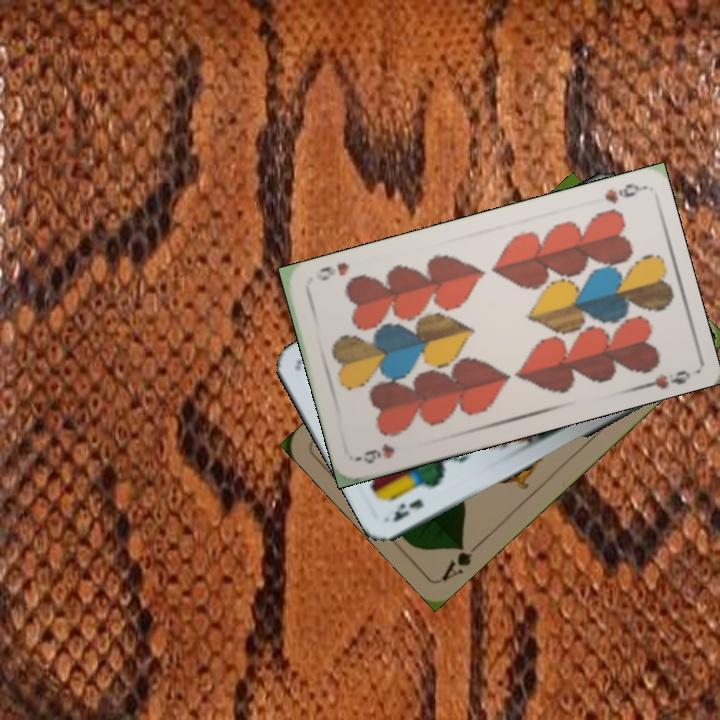EK: (388, 495, 426, 525)
GA: (437, 536, 485, 584)
H9: (600, 179, 644, 207), (355, 438, 397, 467)
